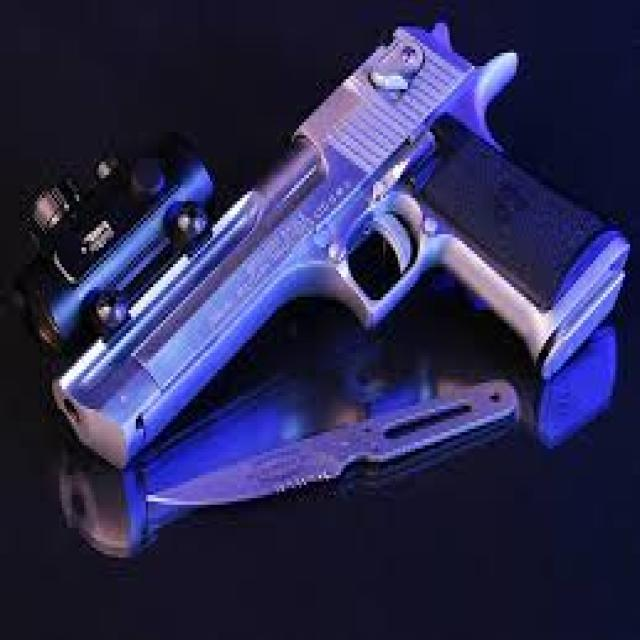gun: (49, 3, 614, 460)
